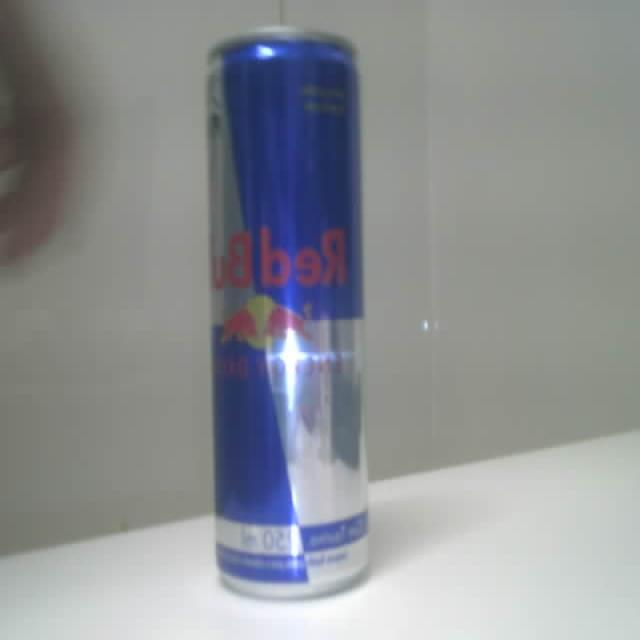redbull can: (208, 28, 367, 597)
